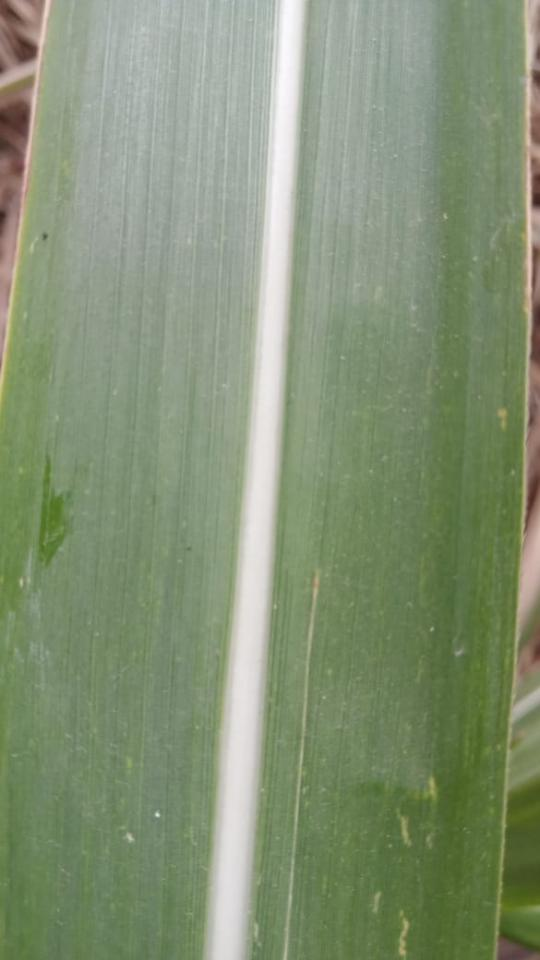Healthy: (0, 0, 529, 959)
